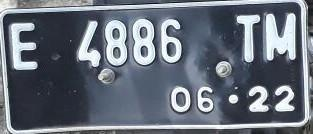clone-license-plate: (0, 0, 309, 128)
